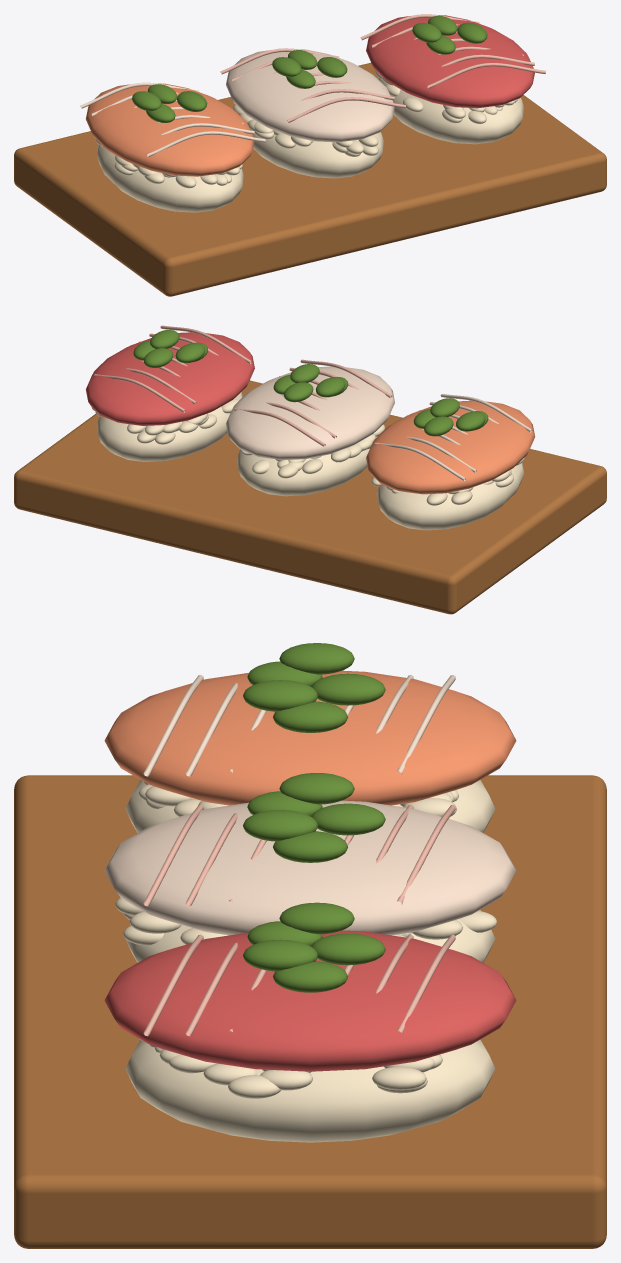
File: 50-sushi-trio.glb
3 views of the same model, one above another, from view 1: azimuth 30°, elevation 25°; view 2: azimuth 150°, elevation 25°; view 3: azimuth 270°, elevation 25° (orthographic). The views are drawn at different scales.
Visible parts, largest first — view 1: 3종 모둠 초밥; view 2: 3종 모둠 초밥; view 3: 3종 모둠 초밥.
Part boxes in pixels (x1,y1,x2,y2): 3종 모둠 초밥: [14, 14, 606, 296]; 3종 모둠 초밥: [14, 325, 606, 614]; 3종 모둠 초밥: [14, 643, 606, 1248].
Bounding box in the file's own units: 1.8 × 0.586 × 1.1.
